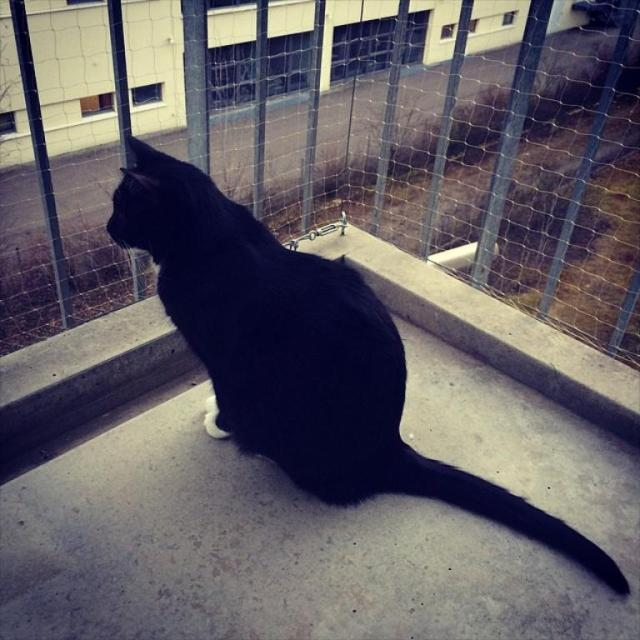Cat: (103, 127, 630, 595)
